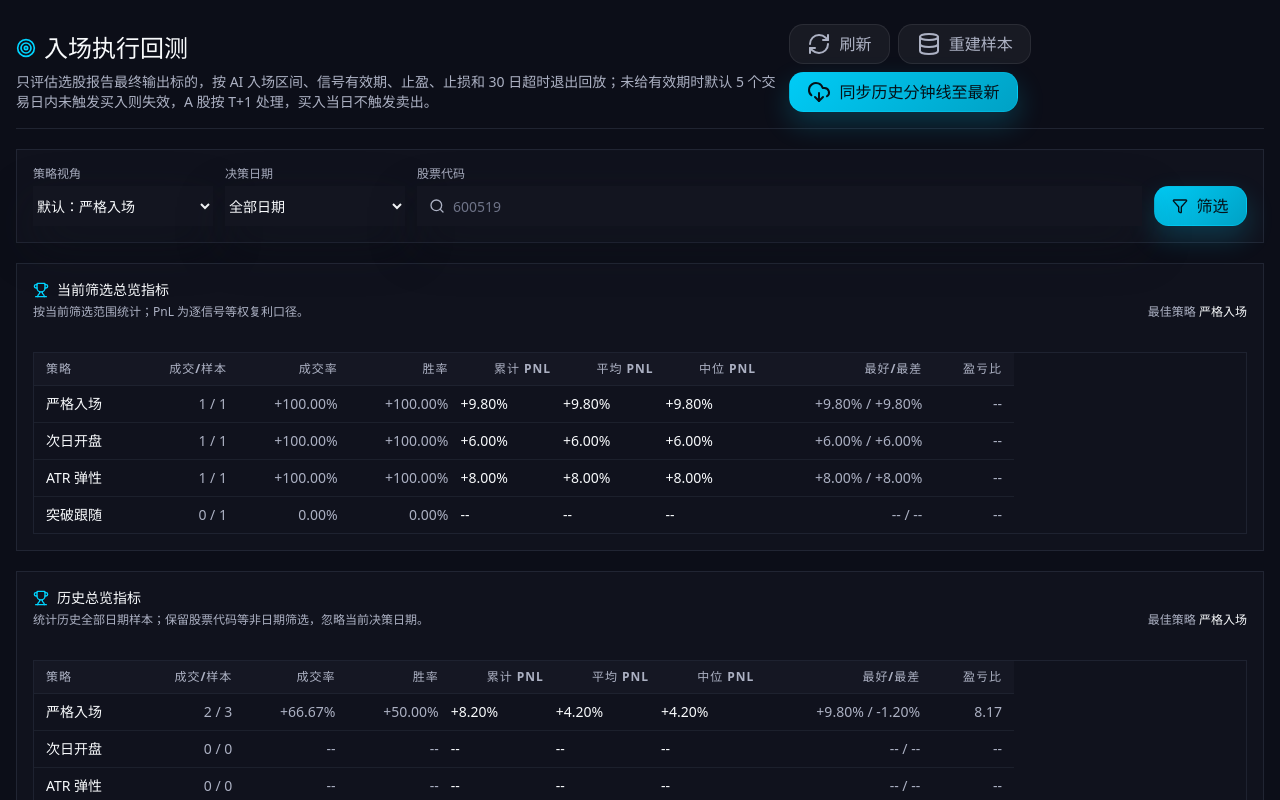
Test: AgentEntryExecutionBacktestsPage › rebuilds samples and reloads the list
This screenshot has width=1280, height=800.
Expected: the heading "入场执行回测" is shown, [44,32,188,64]
Step 1. Click the button "重建样本" → (965, 44), box [898,24,1031,64]
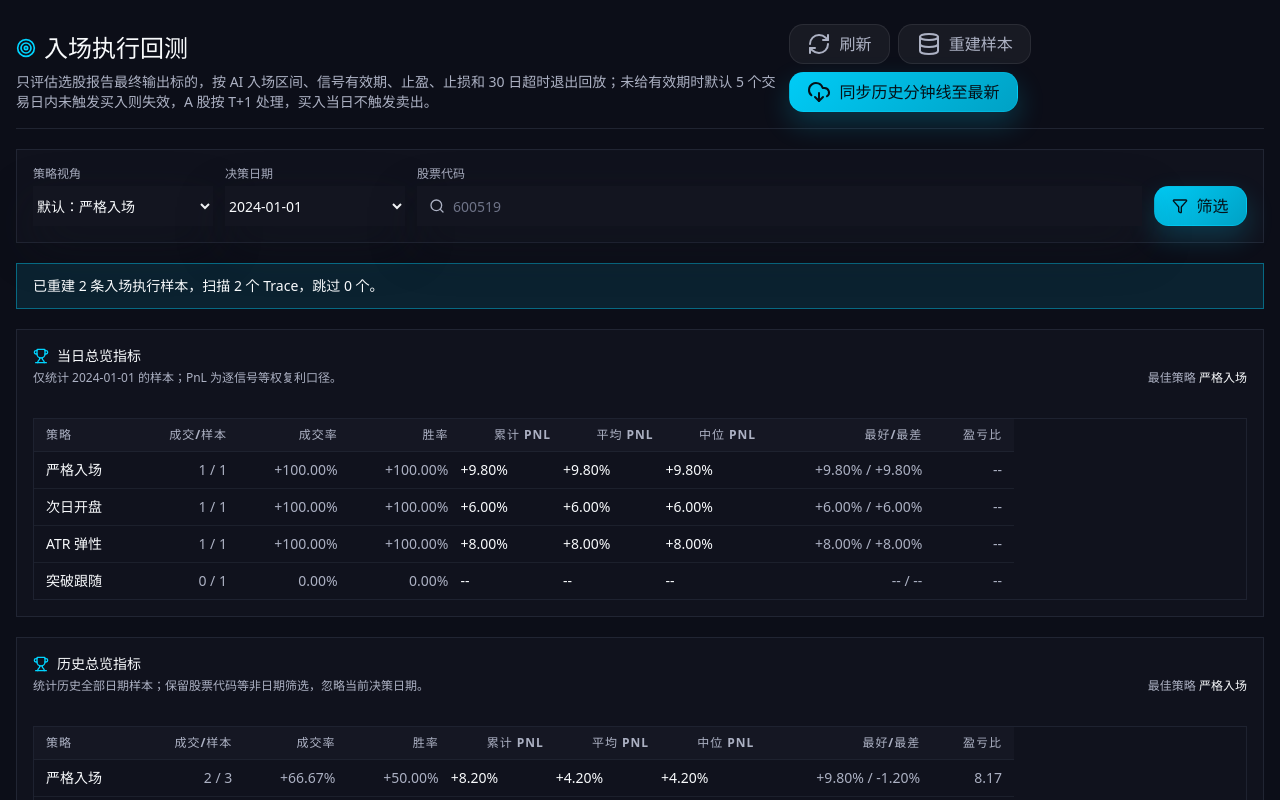
Now the text "已重建 2 条入场执行样本，扫描 2 个 Trace，跳过 0 个。" is shown, box [16,263,1264,309]
